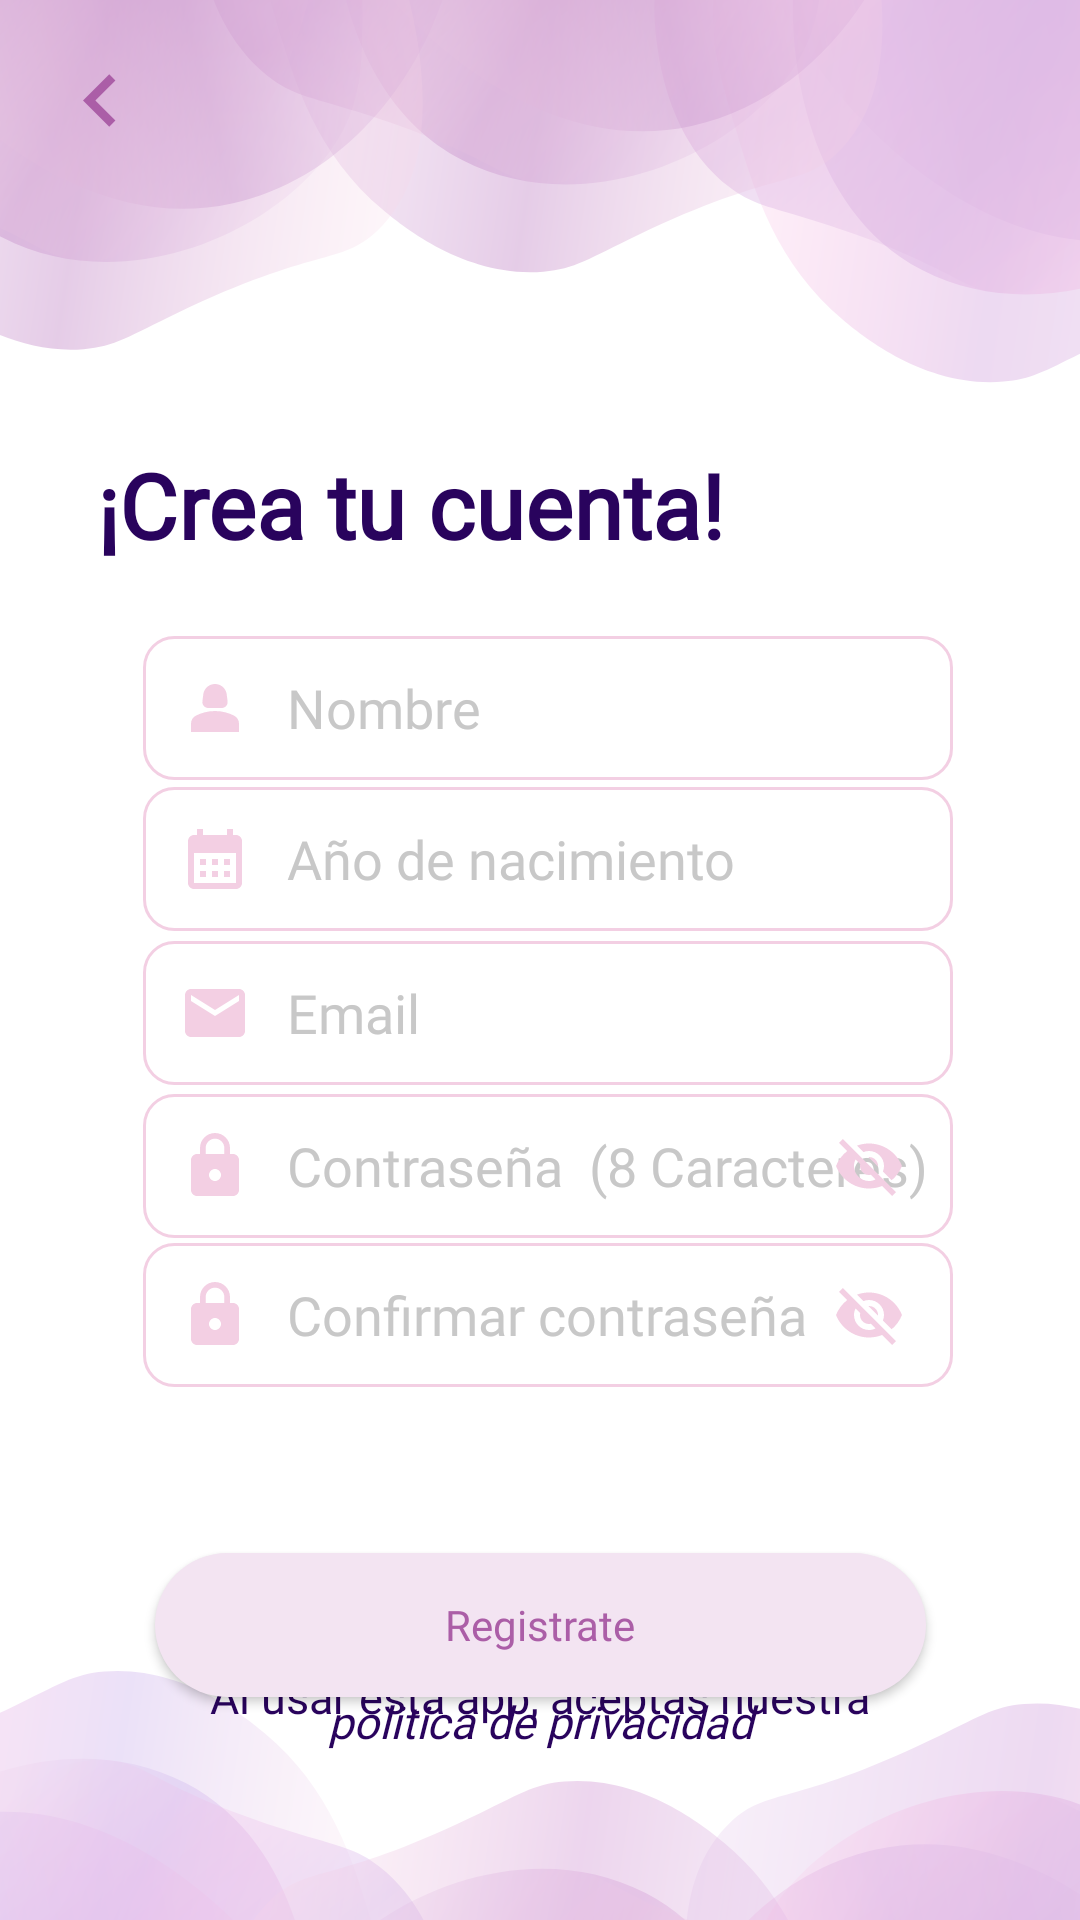

Icons on this 1080px x 1920px Android screen, each with the point to tap as [x,y]:
calendar month: [215,859]
chevron left: [99,100]
lock: [215,1164], [215,1313]
person: [215,708]
